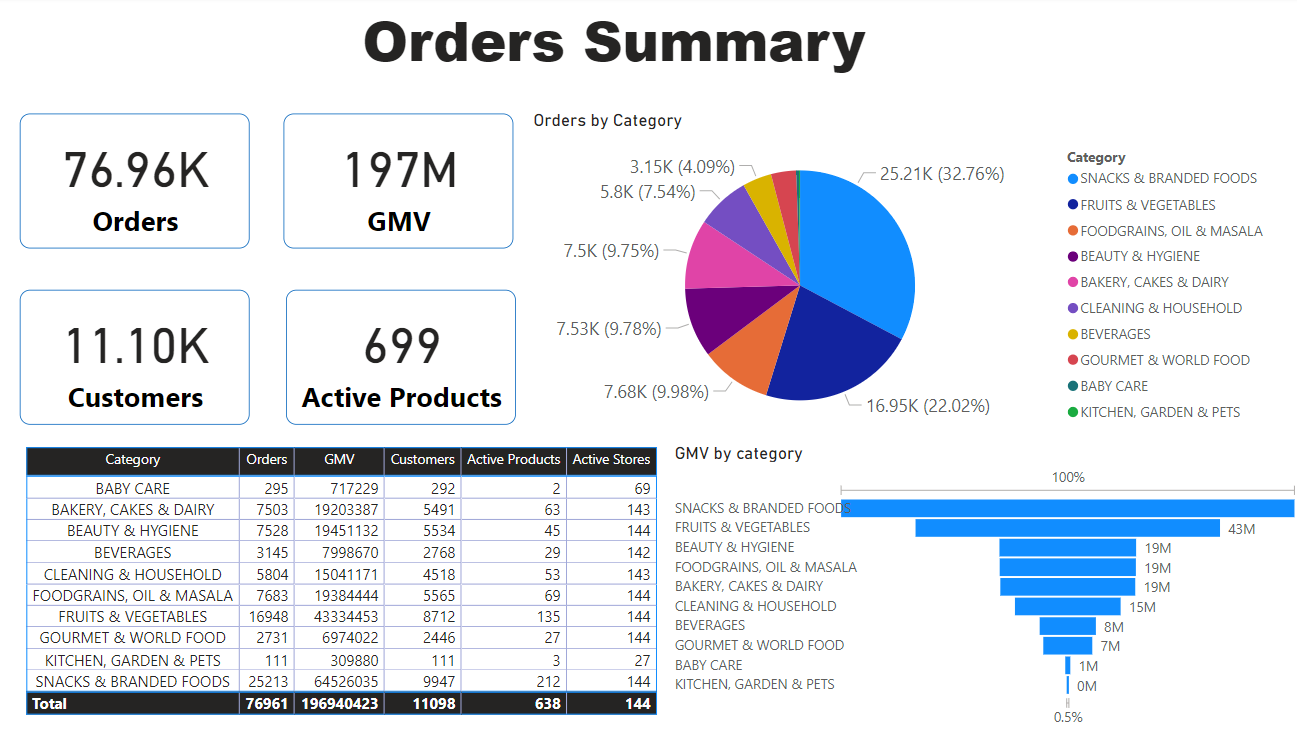

The page's visual inventory and layout, read from the dashboard file:
{"tool":"powerbi","page":{"name":"Orders Summary","canvas":[1280,720],"ordinal":0},"visuals":[{"type":"textbox","box":[343.6,0,521.1,88.7],"z":0},{"type":"card","fields":{"Values":["Count(order_details.order_id)"]},"box":[22.8,115.2,224.7,132.2],"z":1000},{"type":"card","fields":{"Values":["Sum(order_details.selling_price)"]},"box":[281.1,115.3,224.7,132.2],"z":2000},{"type":"card","fields":{"Values":["Count(order_details.customer_id)"]},"box":[22.7,286.9,224.7,132.2],"z":3000},{"type":"pieChart","fields":{"Y":["CountNonNull(order_details.order_id)"],"Category":["product_hierarchy.category"]},"box":[521.1,111.4,732.5,324.7],"z":4000},{"type":"card","fields":{"Values":["Count(product_hierarchy.product_id)"]},"box":[283,287,224.7,132.2],"z":5000},{"type":"tableEx","fields":{"Values":["product_hierarchy.category","order_details.order_id","Sum(order_details.selling_price)","order_details.customer_id","order_details.product_id","order_details.store_id"]},"box":[22.7,436.1,636.2,283.2],"z":6000},{"type":"funnel","fields":{"Y":["Sum(order_details.selling_price)"],"Category":["product_hierarchy.category"]},"box":[658.9,436.1,621.1,283.2],"z":7000}]}

Visuals, with their boxes in screenshot pixels (x1, y1, x2, y2), scaled from the page's 1280x720 canvas onto the 1297x730 screenshot:
textbox: select_region(348, 0, 876, 90)
card - Count(order_details.order_id): select_region(23, 117, 251, 251)
card - Sum(order_details.selling_price): select_region(285, 117, 513, 251)
card - Count(order_details.customer_id): select_region(23, 291, 251, 425)
pieChart - CountNonNull(order_details.order_id) x product_hierarchy.category: select_region(528, 113, 1270, 442)
card - Count(product_hierarchy.product_id): select_region(287, 291, 514, 425)
tableEx - product_hierarchy.category x order_details.order_id: select_region(23, 442, 668, 729)
funnel - Sum(order_details.selling_price) x product_hierarchy.category: select_region(668, 442, 1296, 729)
